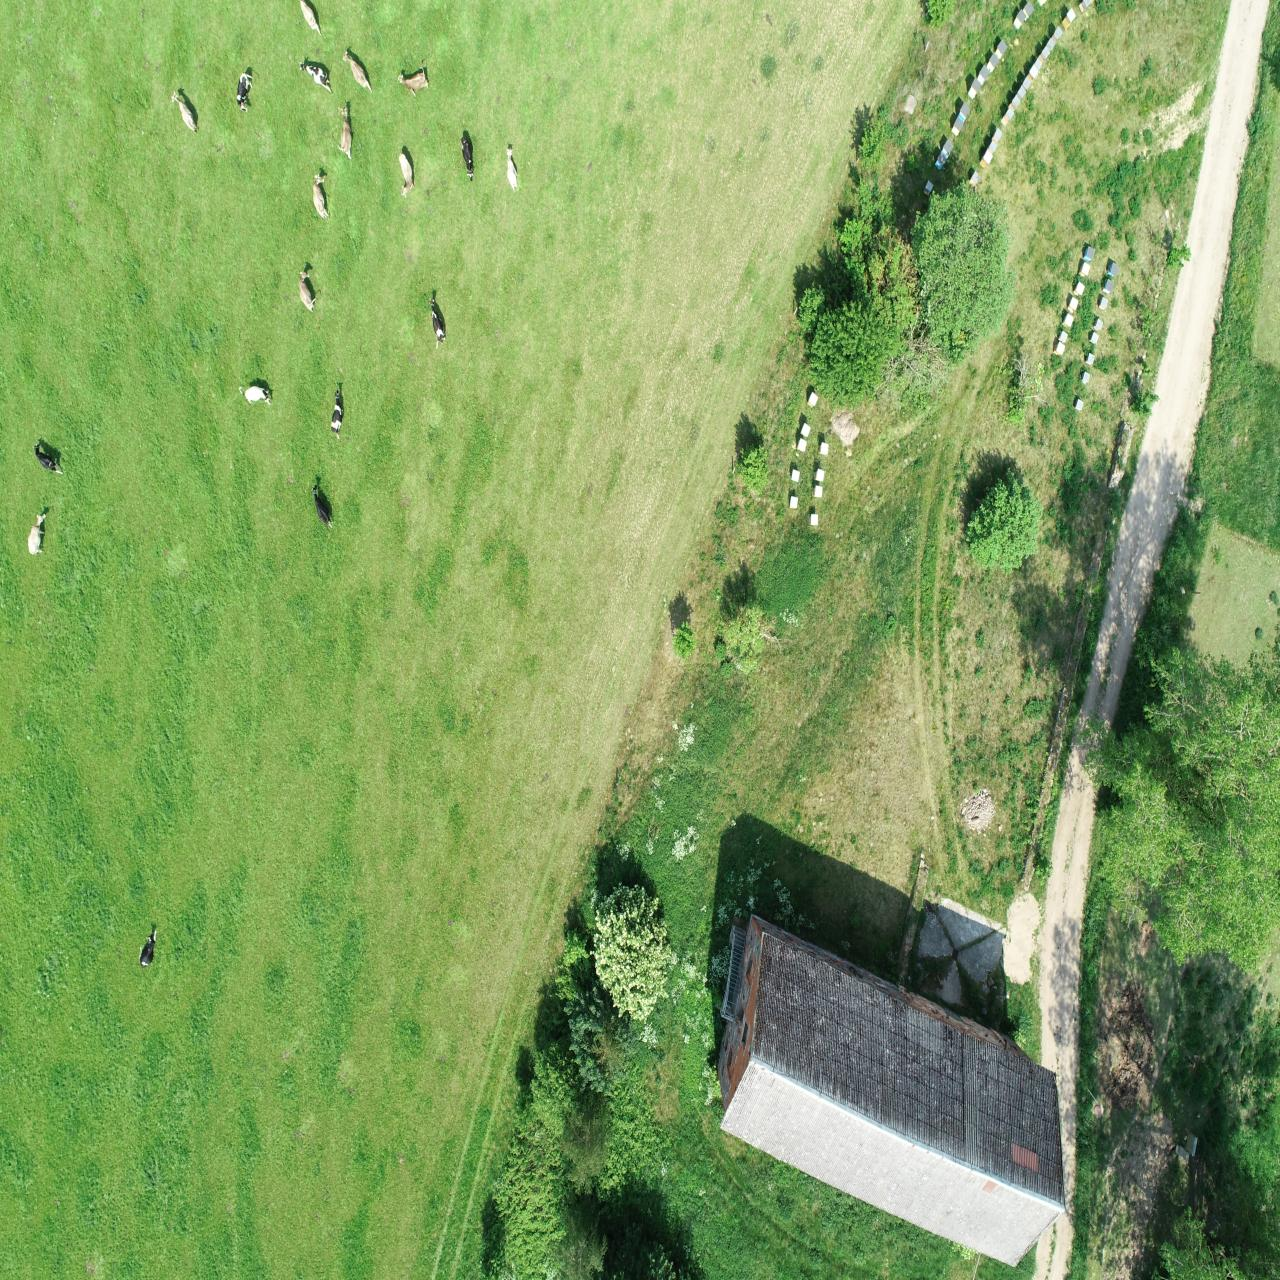cow: (341, 46, 376, 97), (168, 87, 199, 136), (28, 440, 68, 477), (308, 481, 335, 536), (394, 64, 433, 102), (298, 59, 334, 97), (425, 295, 448, 353), (295, 267, 320, 319), (311, 171, 335, 220), (295, 0, 324, 39), (237, 381, 273, 410), (26, 509, 47, 559), (136, 926, 159, 971), (458, 134, 479, 183), (336, 105, 354, 163), (397, 150, 417, 200), (328, 387, 345, 444), (236, 69, 256, 115), (504, 142, 520, 196)
